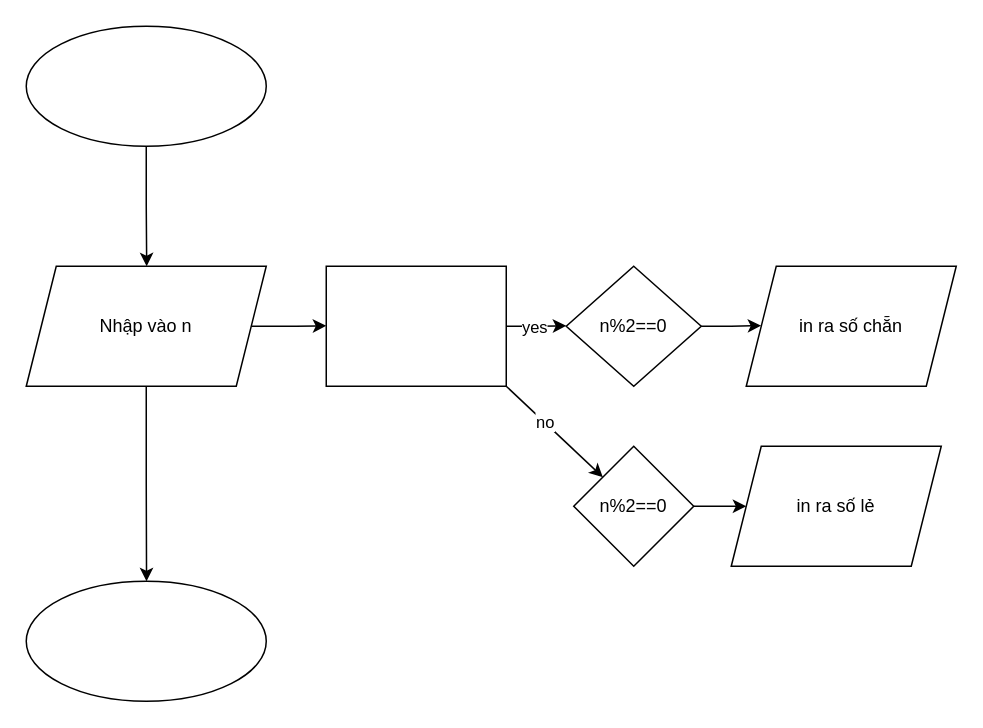
Some shapes in this 983 by 728 pixel diagram are drawn without their labels. The shapes that lost their labels are listed below. From the top down, each one's box as (x1, y1, x2, y2) in pixels, then its label:
(25, 25, 266, 146): start
(325, 265, 506, 386): n%2
(25, 580, 266, 701): end
